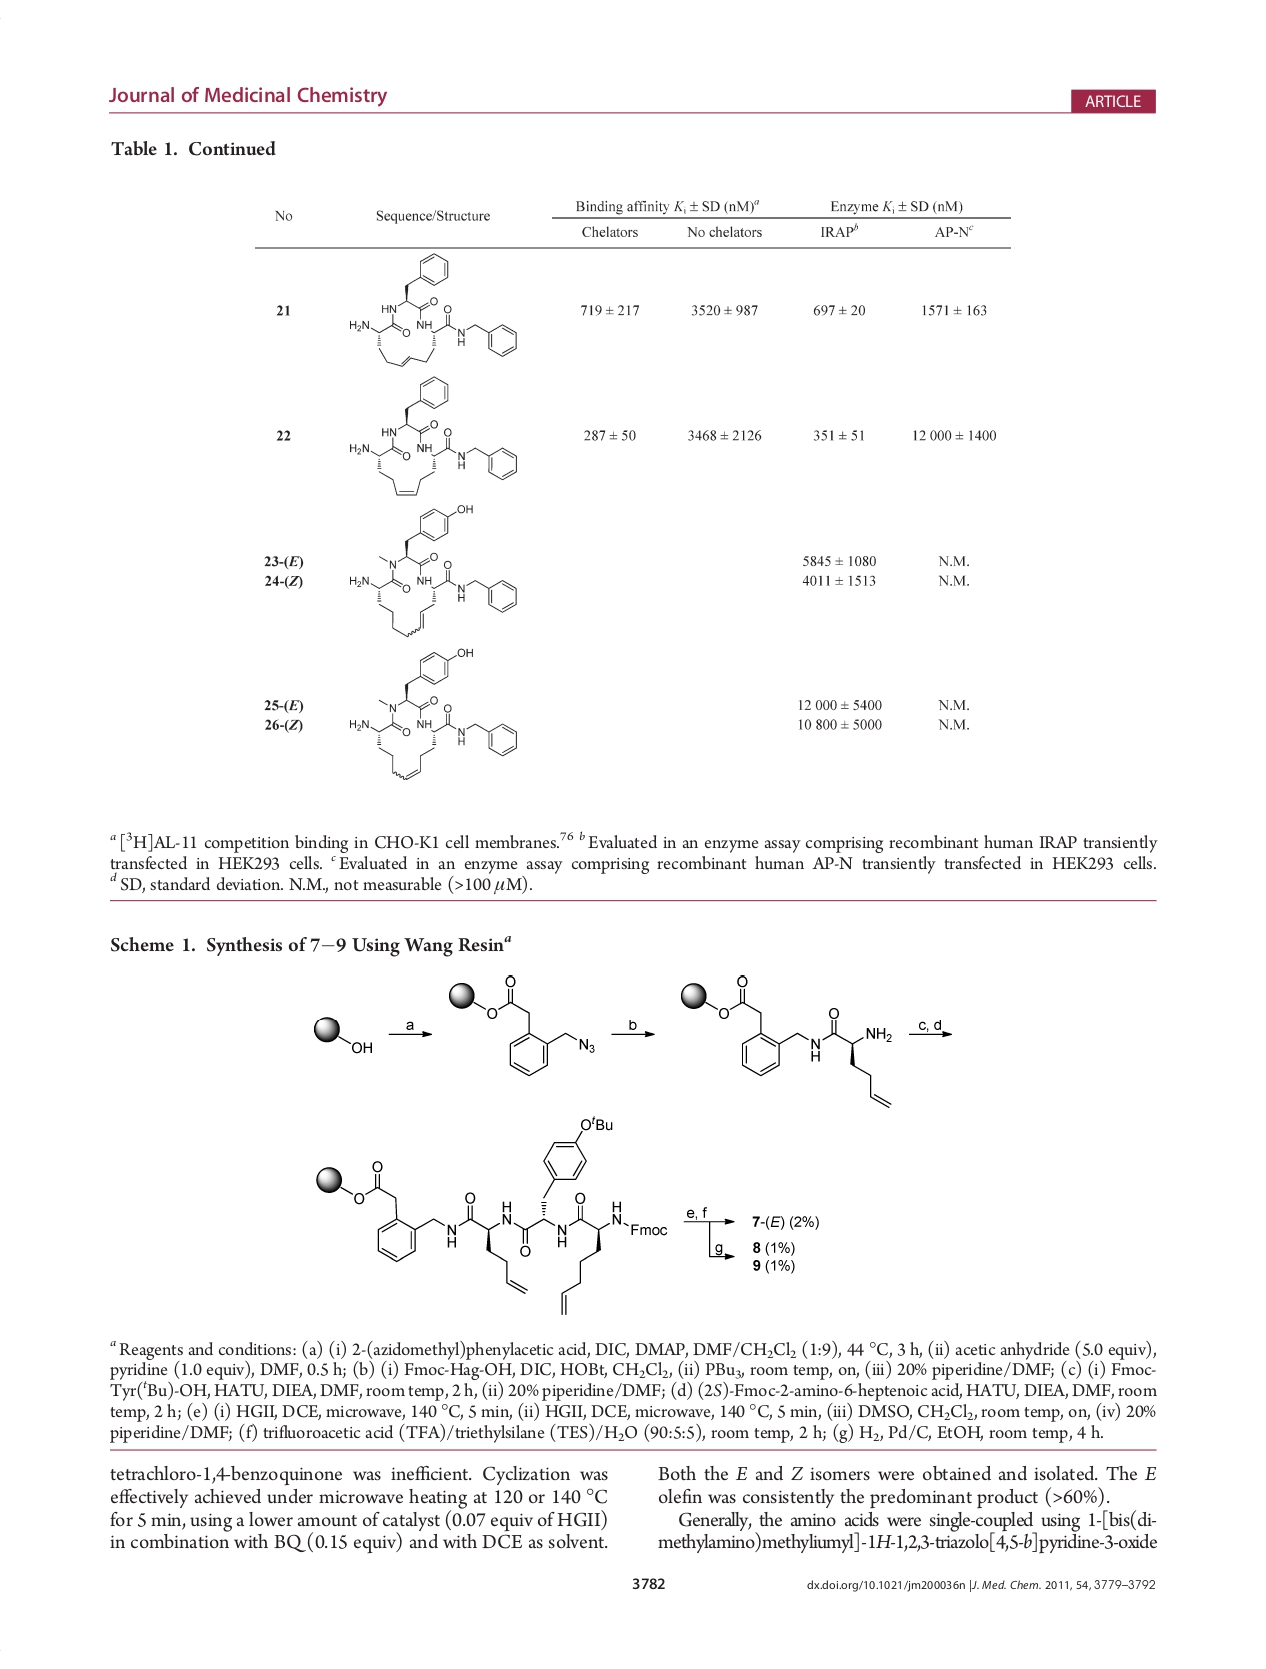exist_molecular: (314, 1114, 672, 1318), (677, 969, 903, 1114), (344, 644, 520, 782), (348, 501, 521, 638), (344, 374, 520, 497), (347, 251, 520, 368), (448, 973, 597, 1080), (309, 1011, 378, 1059)
